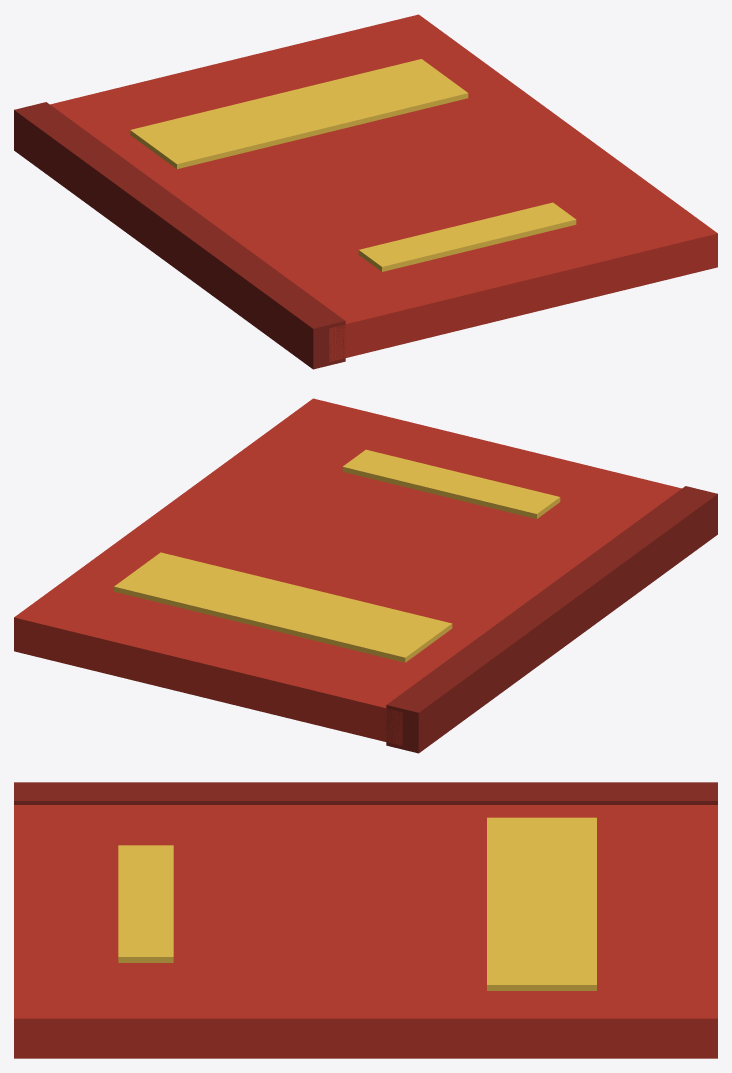
Rendered from book_cover.glb.
3 renders of one model, top to bottom at view 1: azimuth 30°, elevation 25°; view 2: azimuth 150°, elevation 25°; view 3: azimuth 270°, elevation 25°, orthographic. The views are drawn at different scales.
Parts seen in each view (by area): view 1: cover_cover_red, spine_cover_spine, title_cover_gold, name_cover_gold; view 2: cover_cover_red, spine_cover_spine, title_cover_gold, name_cover_gold; view 3: cover_cover_red, title_cover_gold, spine_cover_spine, name_cover_gold.
Boxes of the visible parts, x1,y1,x2,y2 form: cover_cover_red: (50,14,717,361); spine_cover_spine: (14,102,345,369); title_cover_gold: (130,59,468,169); name_cover_gold: (358,202,576,271); cover_cover_red: (14,398,681,745); spine_cover_spine: (386,486,717,753); title_cover_gold: (114,552,452,662); name_cover_gold: (342,449,560,518); cover_cover_red: (14,805,717,1058); title_cover_gold: (487,817,596,990); spine_cover_spine: (14,782,717,804); name_cover_gold: (118,845,173,962).
Size of the model in its own units: 0.25 by 0.025 by 0.32.
